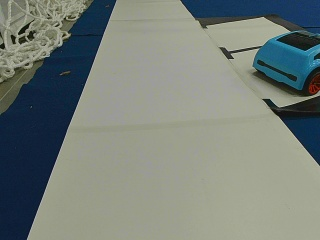car: (252, 29, 318, 94)
